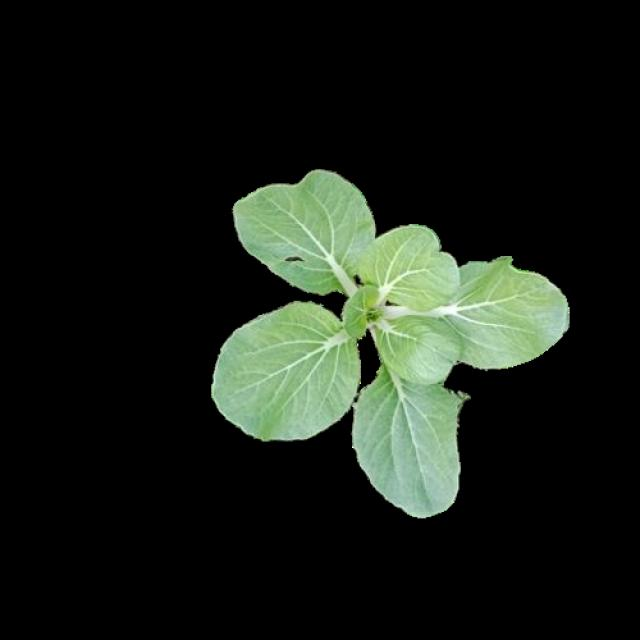not-mature: (212, 170, 570, 520)
unhealthy: (232, 169, 376, 294)
